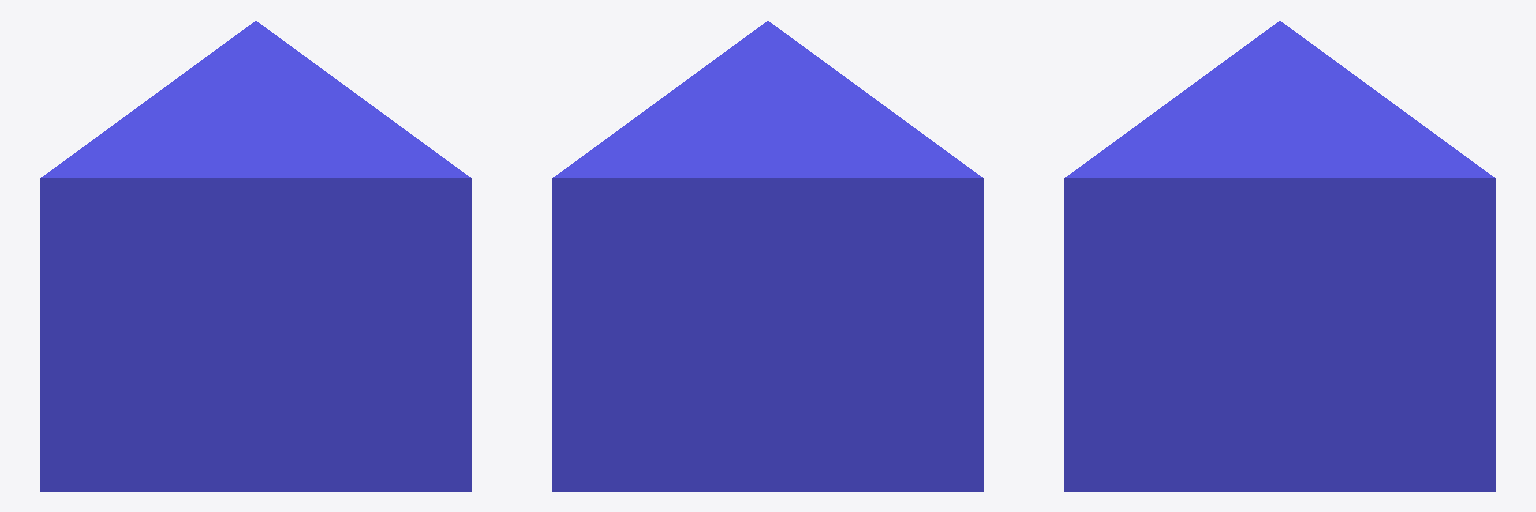
The robot description file, URDF, robot "triangle.urdf":
<?xml version="1.0" ?>
<robot name="triangle.urdf">
  <link name="baseLink">
    <contact>
      <lateral_friction value="0.5"/>
      <rolling_friction value="0.0001"/>
      <inertia_scaling value="1.0"/>
    </contact>
    <inertial>
      <origin rpy="0 0 0" xyz="0 0 0"/>
       <mass value=".01"/>
       <inertia ixx="1" ixy="0" ixz="0" iyy="1" iyz="0" izz="1"/>
    </inertial>
    <visual>
      <origin rpy="0 0 0" xyz="0 0 0"/>
      <geometry>
        <mesh filename="triangle.obj" scale="1.0 1.0 1.0"/>
      </geometry>
       <material name="blue">
        <color rgba="0.4 0.4 1.0 1"/>
      </material>
    </visual>
    <collision>
      <origin rpy="0 0 0" xyz="0 0 0"/>
      <geometry>
        <mesh filename="triangle.obj" scale="1.0 1.0 1.0"/>
      </geometry>
    </collision>
  </link>
</robot>

--- What the picture shows (computed from the rendered views, not written in the file) ---
Views: 3 orthographic renders of the robot side by side, from view 1: azimuth 30°, elevation 25°; view 2: azimuth 150°, elevation 25°; view 3: azimuth 270°, elevation 25°.
Robot: triangle.urdf — 1 links, 0 joints (none); root link baseLink; default pose: every joint at zero.
Visible links, largest first — view 1: baseLink; view 2: baseLink; view 3: baseLink.
Link boxes in pixels (box(x1,y1,x2,y2)): baseLink: box(40, 21, 471, 491); baseLink: box(552, 21, 983, 491); baseLink: box(1064, 21, 1495, 491).
Size in the robot's own frame: 0.0433 by 0.05 by 0.04 metres.
1 mesh visuals loaded from 1 distinct referenced files (1 OBJ).
